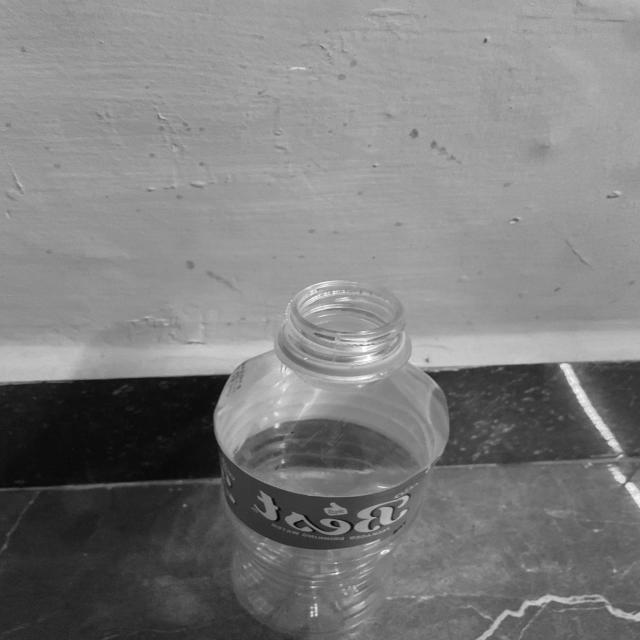open-cap: (274, 277, 412, 374)
